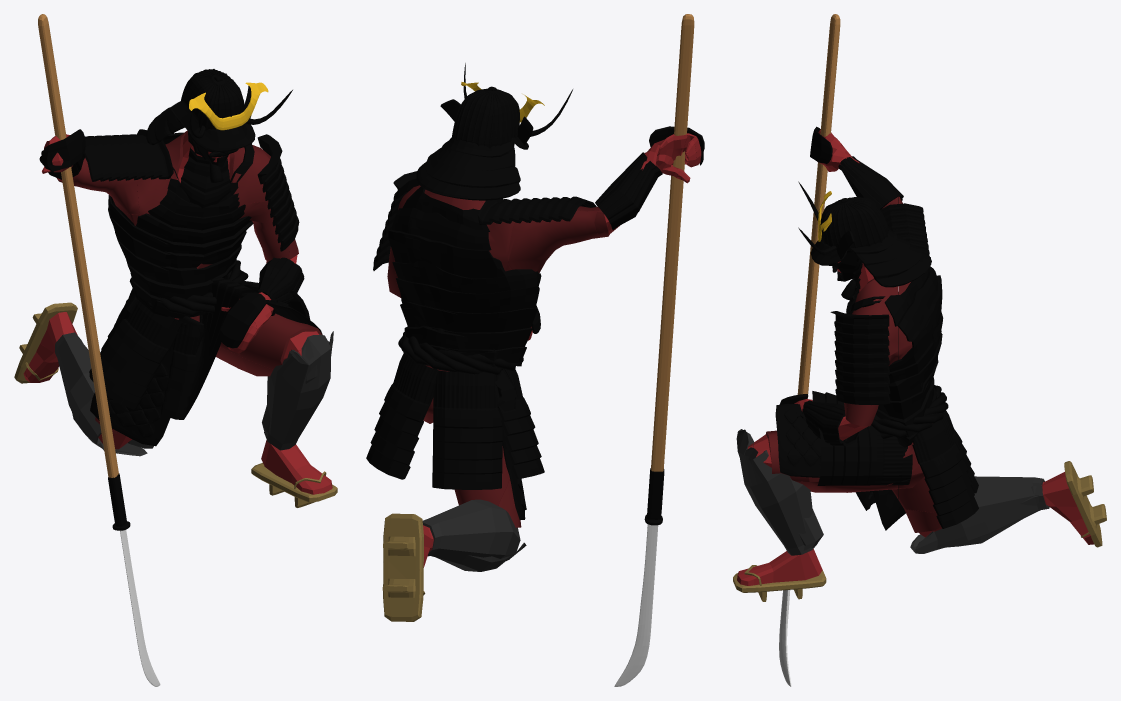
File: Explosion_Ragdoll_Samurai_Spear.fbx
3 renders of one model, left to right at view 1: azimuth 30°, elevation 25°; view 2: azimuth 150°, elevation 25°; view 3: azimuth 270°, elevation 25°, orthographic. The views are drawn at different scales.
Visible parts, largest first — view 1: Do, Naginata, KusaziriRLeg, LSuneate, Kabuto, KusaziriFront, RSode, RSuneate, RHaidate, LSode, BaseModel.076, BaseModel.048 (+16 smaller); view 2: Do, Kabuto, Naginata, KusaziriRBack, RSuneate, KusaziriLBack, KusaziriRLeg, BaseModel.064, BaseModel.048, R Oda Gote, RSode, RWaraji (+7 smaller); view 3: Do, Kabuto, LSuneate, LSode, RSuneate, KusaziriLLeg, Naginata, KusaziriLBack, LHaidate, BaseModel.048, BaseModel.080, R Oda Gote (+13 smaller).
Boxes of the visible parts, x1,y1,x2,y2 form: Do: [108, 132, 254, 318]; Naginata: [38, 14, 160, 686]; KusaziriRLeg: [89, 293, 181, 409]; LSuneate: [262, 331, 333, 450]; Kabuto: [146, 69, 255, 152]; KusaziriFront: [161, 277, 257, 419]; RSode: [84, 129, 173, 181]; RSuneate: [55, 332, 153, 456]; RHaidate: [90, 316, 204, 446]; LSode: [257, 134, 299, 251]; BaseModel.076: [239, 313, 321, 369]; BaseModel.048: [16, 302, 77, 383]; Do: [388, 186, 541, 366]; Kabuto: [416, 86, 533, 200]; Naginata: [614, 14, 694, 686]; KusaziriRBack: [432, 370, 502, 489]; RSuneate: [422, 499, 526, 571]; KusaziriLBack: [366, 352, 438, 479]; KusaziriRLeg: [494, 368, 544, 478]; BaseModel.064: [508, 209, 597, 271]; BaseModel.048: [383, 513, 433, 621]; R Oda Gote: [595, 152, 662, 229]; RSode: [477, 196, 596, 224]; RWaraji: [382, 514, 425, 621]; Do: [848, 266, 943, 447]; Kabuto: [810, 197, 931, 287]; LSuneate: [736, 429, 823, 555]; LSode: [830, 311, 890, 404]; RSuneate: [910, 476, 1049, 553]; KusaziriLLeg: [817, 425, 912, 485]; Naginata: [779, 14, 840, 686]; KusaziriLBack: [912, 413, 978, 528]; LHaidate: [775, 403, 910, 481]; BaseModel.048: [1041, 461, 1105, 547]; BaseModel.080: [737, 549, 822, 585]; R Oda Gote: [838, 156, 903, 209].
Size of the model in its own units: 145 by 337 by 181.
